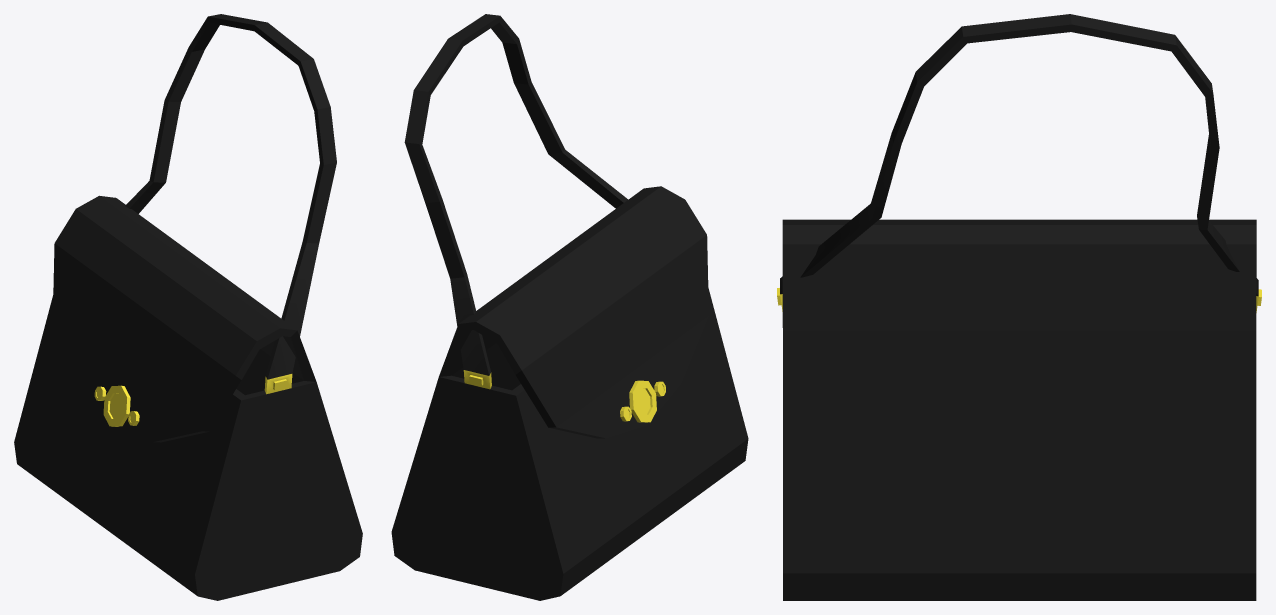
File: Purse.fbx
The picture shows the model from 3 angles, left to right: view 1: azimuth 30°, elevation 25°; view 2: azimuth 150°, elevation 25°; view 3: azimuth 270°, elevation 25°; orthographic projection. The views are drawn at different scales.
Parts seen in each view (by area): view 1: Purse_Circle.002; view 2: Purse_Circle.002; view 3: Purse_Circle.002.
Boxes of the visible parts, x1=… form: Purse_Circle.002: x1=14, y1=14, x2=362, y2=600; Purse_Circle.002: x1=391, y1=14, x2=748, y2=600; Purse_Circle.002: x1=777, y1=14, x2=1261, y2=600.
Bounding box in the file's own units: 0.8463 × 0.4958 × 1.16.
